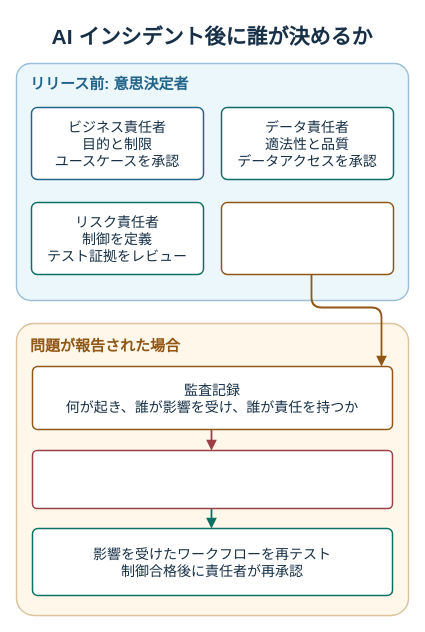
The diagram is 425 pixels wide and 632 high, and some of its shapes have lost their labels. The shapes that lost their labels are listed below. From the top down, each one's box as (x1, y1, x2, y2) in pixels, then its label:
(220, 201, 394, 275): 運用 監視と報告 インシデント影響を制限
(31, 449, 393, 509): 利用を制限して原因を修正 影響を受けたワークフローだけを変更
